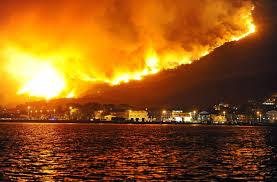fire: (85, 41, 207, 89), (5, 42, 92, 100), (205, 0, 259, 55)
